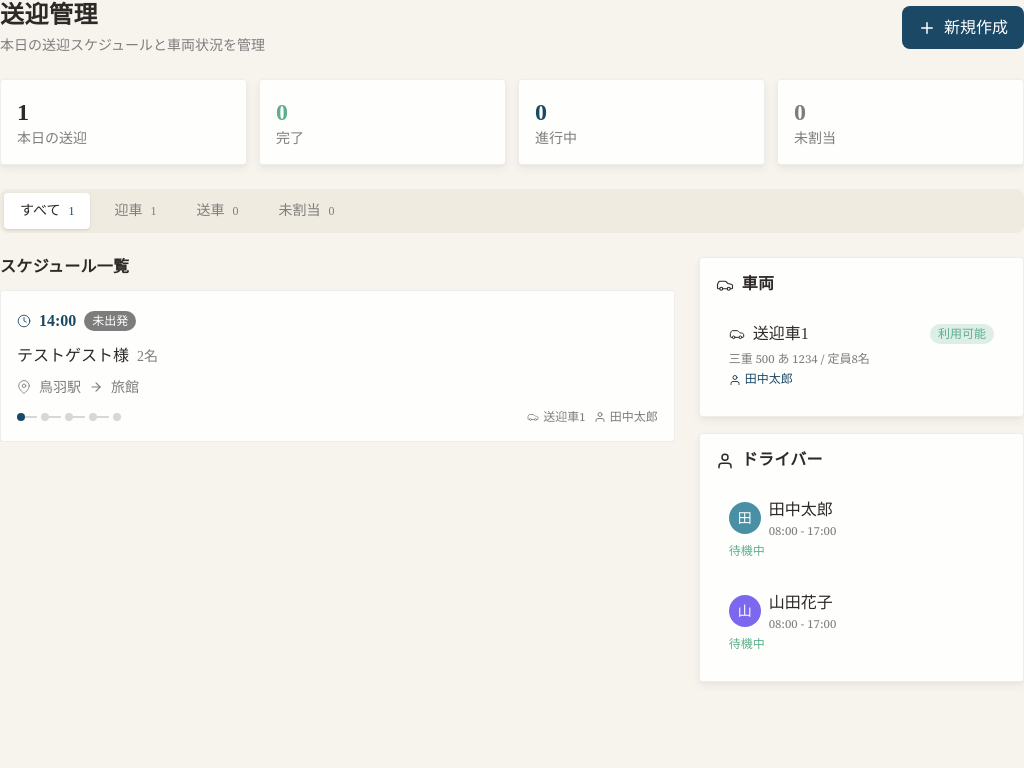
Test case: CreateShuttleModalの共通Modal移行 › CreateShuttleModalが共通Modalのrole=dialogを持つ
This screenshot has width=1024, height=768.
Note: 「新規作成」ボタンをクリックしてCreateShuttleModalを開く
Click the button "新規作成" at (963, 28), box x1=902 y1=6 x2=1023 y2=49
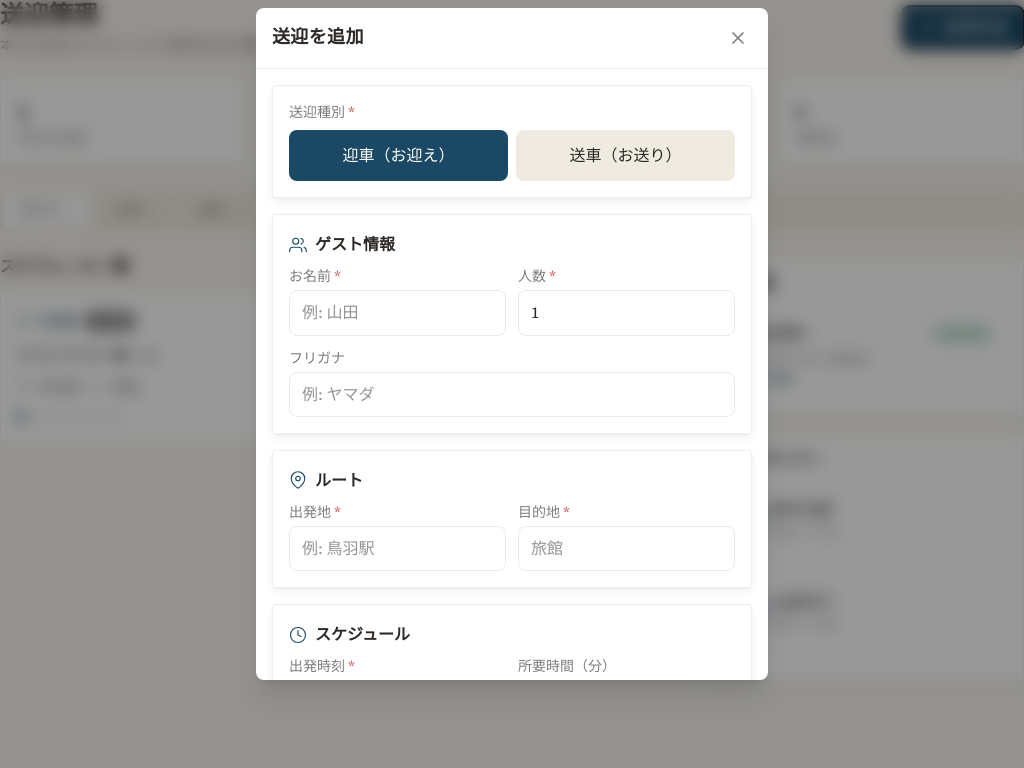
Result: the dialog is shown at x1=256 y1=8 x2=768 y2=680
Result: the heading "送迎を追加" is shown at x1=272 y1=26 x2=364 y2=50
